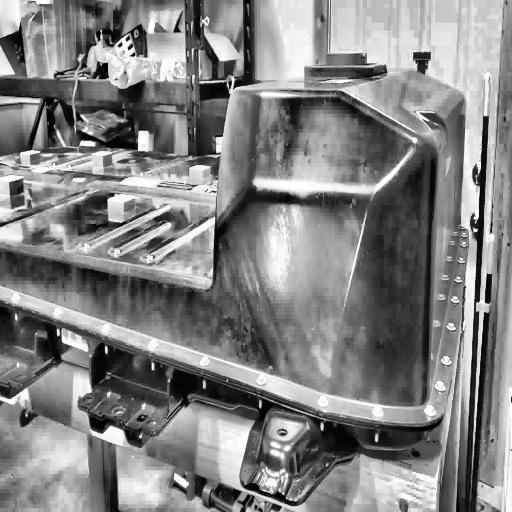b_casing: (0, 58, 469, 425)
nut: (317, 394, 330, 409), (424, 403, 436, 419), (372, 405, 384, 420), (434, 380, 447, 393), (256, 373, 268, 386), (441, 353, 452, 367), (10, 290, 22, 302), (51, 308, 65, 318), (100, 323, 112, 334), (199, 356, 211, 367), (450, 295, 460, 308), (446, 320, 456, 332), (453, 274, 463, 286), (148, 340, 158, 350), (458, 256, 466, 265), (460, 240, 468, 249), (460, 230, 468, 238)
